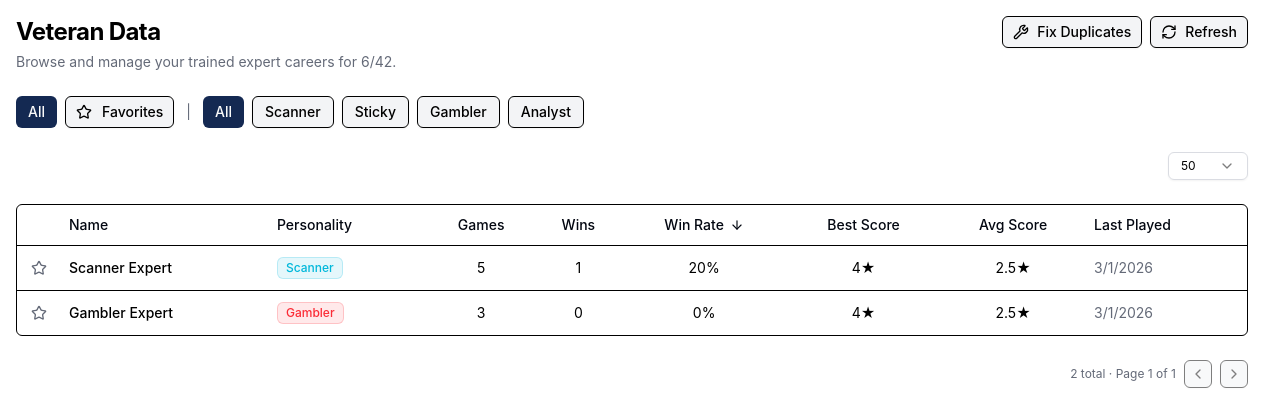
Test: VeteranDataPage › personality filter shows only matching experts
Click the button "Scanner".
click(293, 112)  # box top-left (252, 96), bottom-right (334, 128)
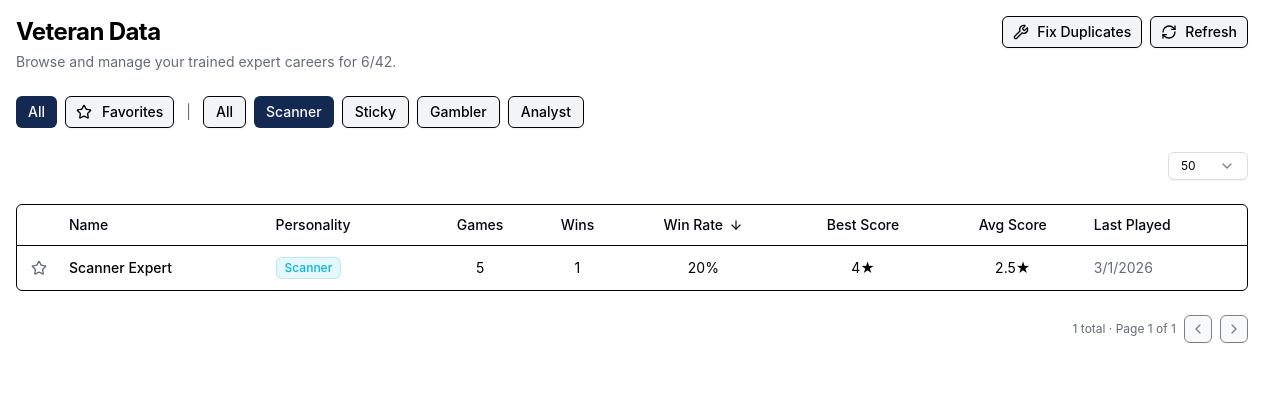
Check: the text "Scanner Expert" is shown, box top-left (61, 245), bottom-right (268, 290)
Check: the text "Gambler Expert" is gone
